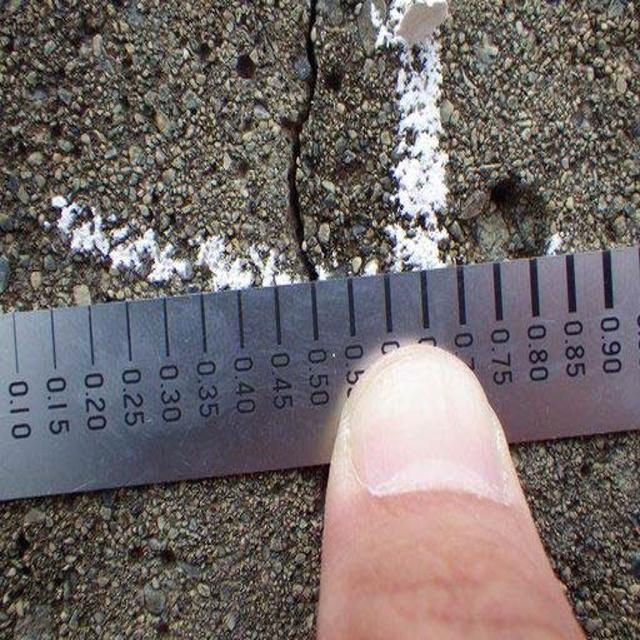crack: (264, 6, 354, 281)
